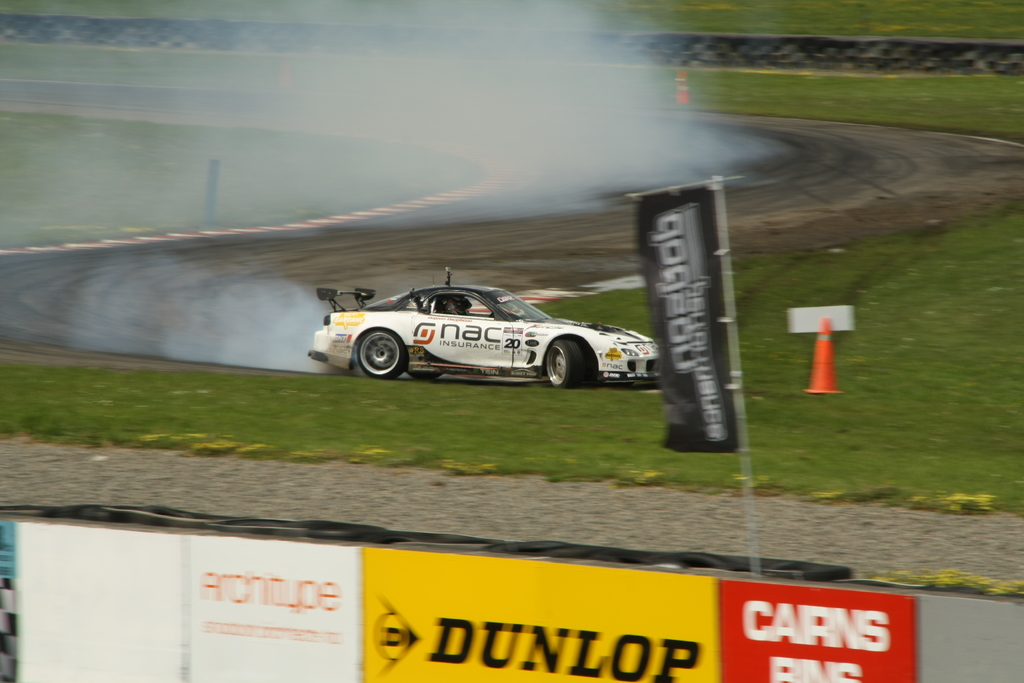Car: (291, 274, 650, 390)
